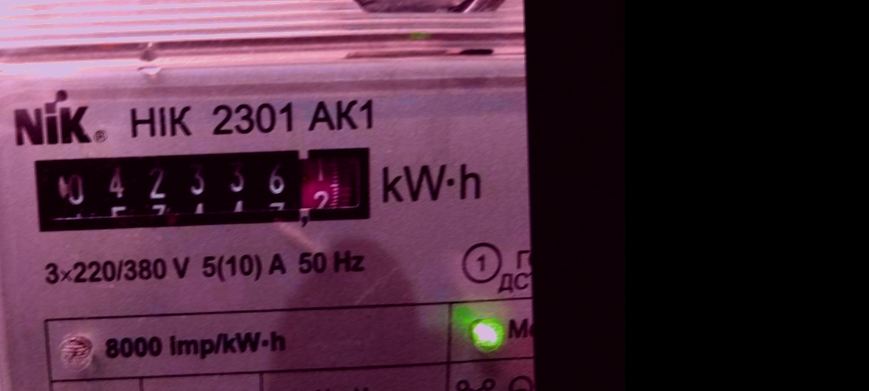0: (64, 168, 85, 204)
1: (311, 152, 325, 182)
2: (145, 162, 166, 198), (309, 186, 329, 208)
3: (185, 157, 206, 195), (223, 156, 244, 192)
4: (105, 160, 125, 197)
6: (263, 157, 286, 193)
screen: (25, 135, 380, 238)
